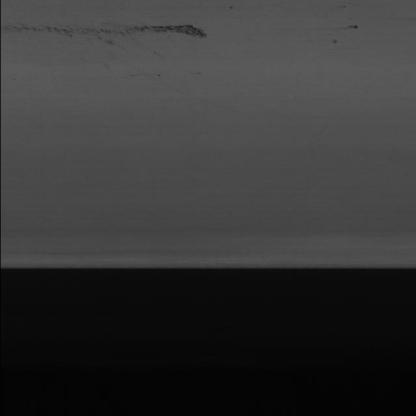inclusion: (10, 15, 210, 45), (334, 21, 371, 34)
